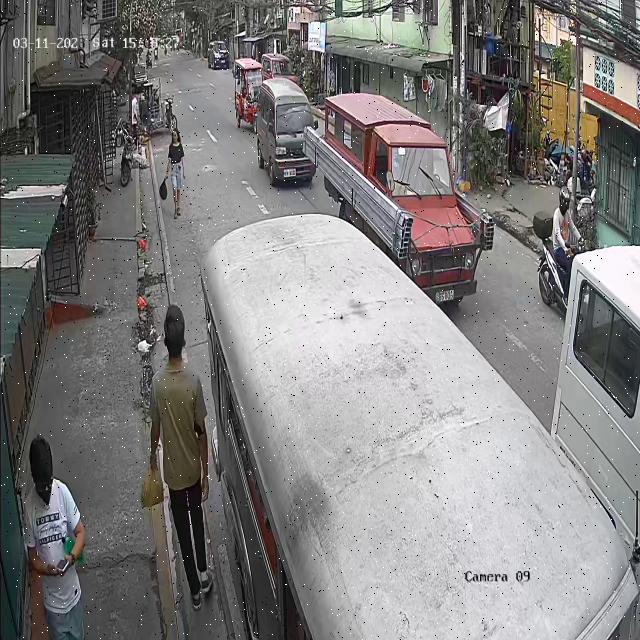human: (140, 304, 213, 610), (160, 127, 187, 220)
trash: (138, 467, 166, 509), (158, 175, 168, 204)
